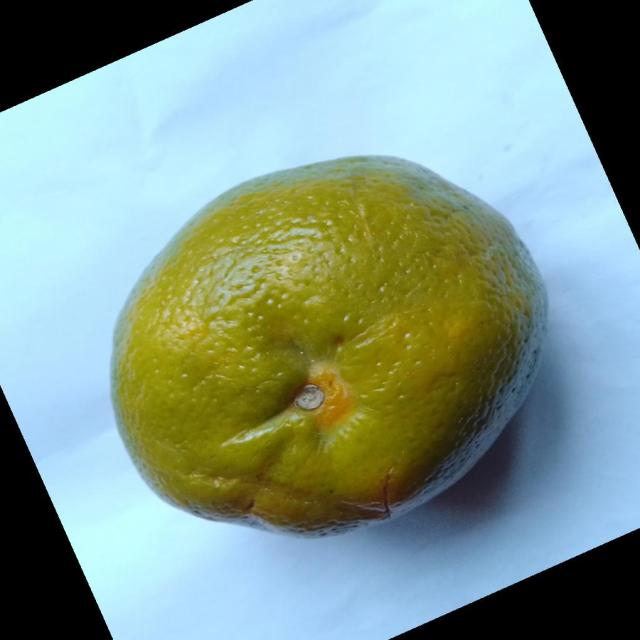fresh orange: (108, 152, 550, 538)
